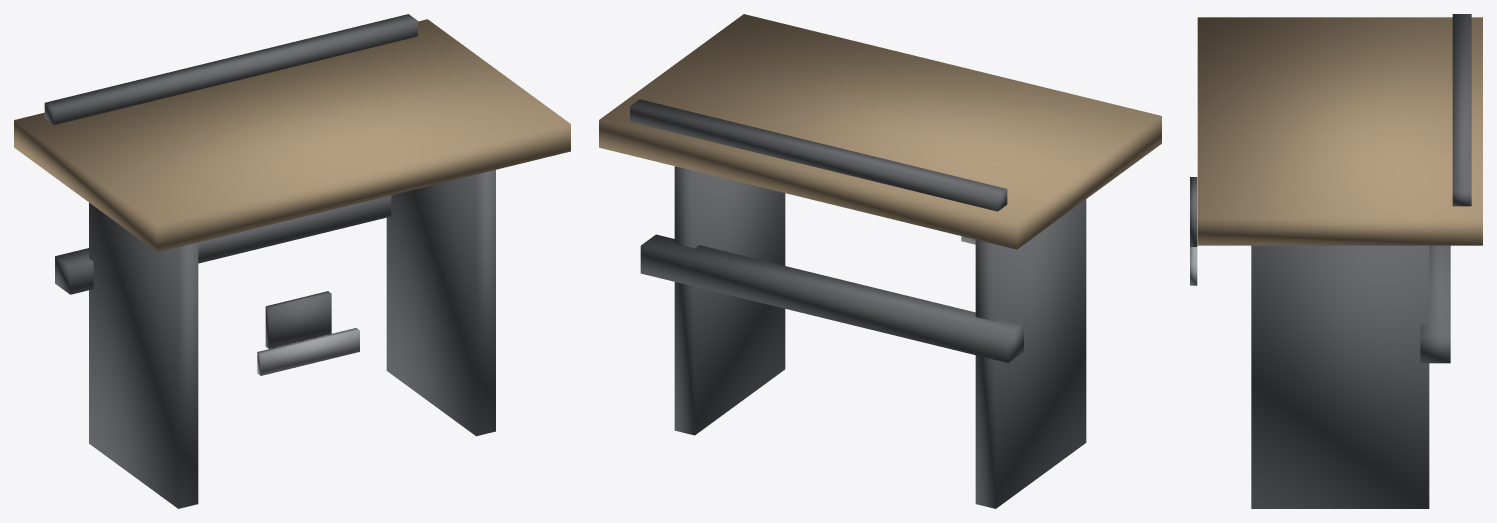
Rendered from drafting_table__weathered.glb.
3 renders of one model, left to right at view 1: azimuth 30°, elevation 25°; view 2: azimuth 150°, elevation 25°; view 3: azimuth 270°, elevation 25°, orthographic.
Parts seen in each view (by area): view 1: world; view 2: world; view 3: world.
Boxes of the visible parts, left/top/right/bottom form: world: left=14, top=14, right=570, bottom=508; world: left=599, top=14, right=1161, bottom=508; world: left=1190, top=14, right=1482, bottom=508.
Size of the model in its own units: 1.25 by 0.9553 by 0.7699.
